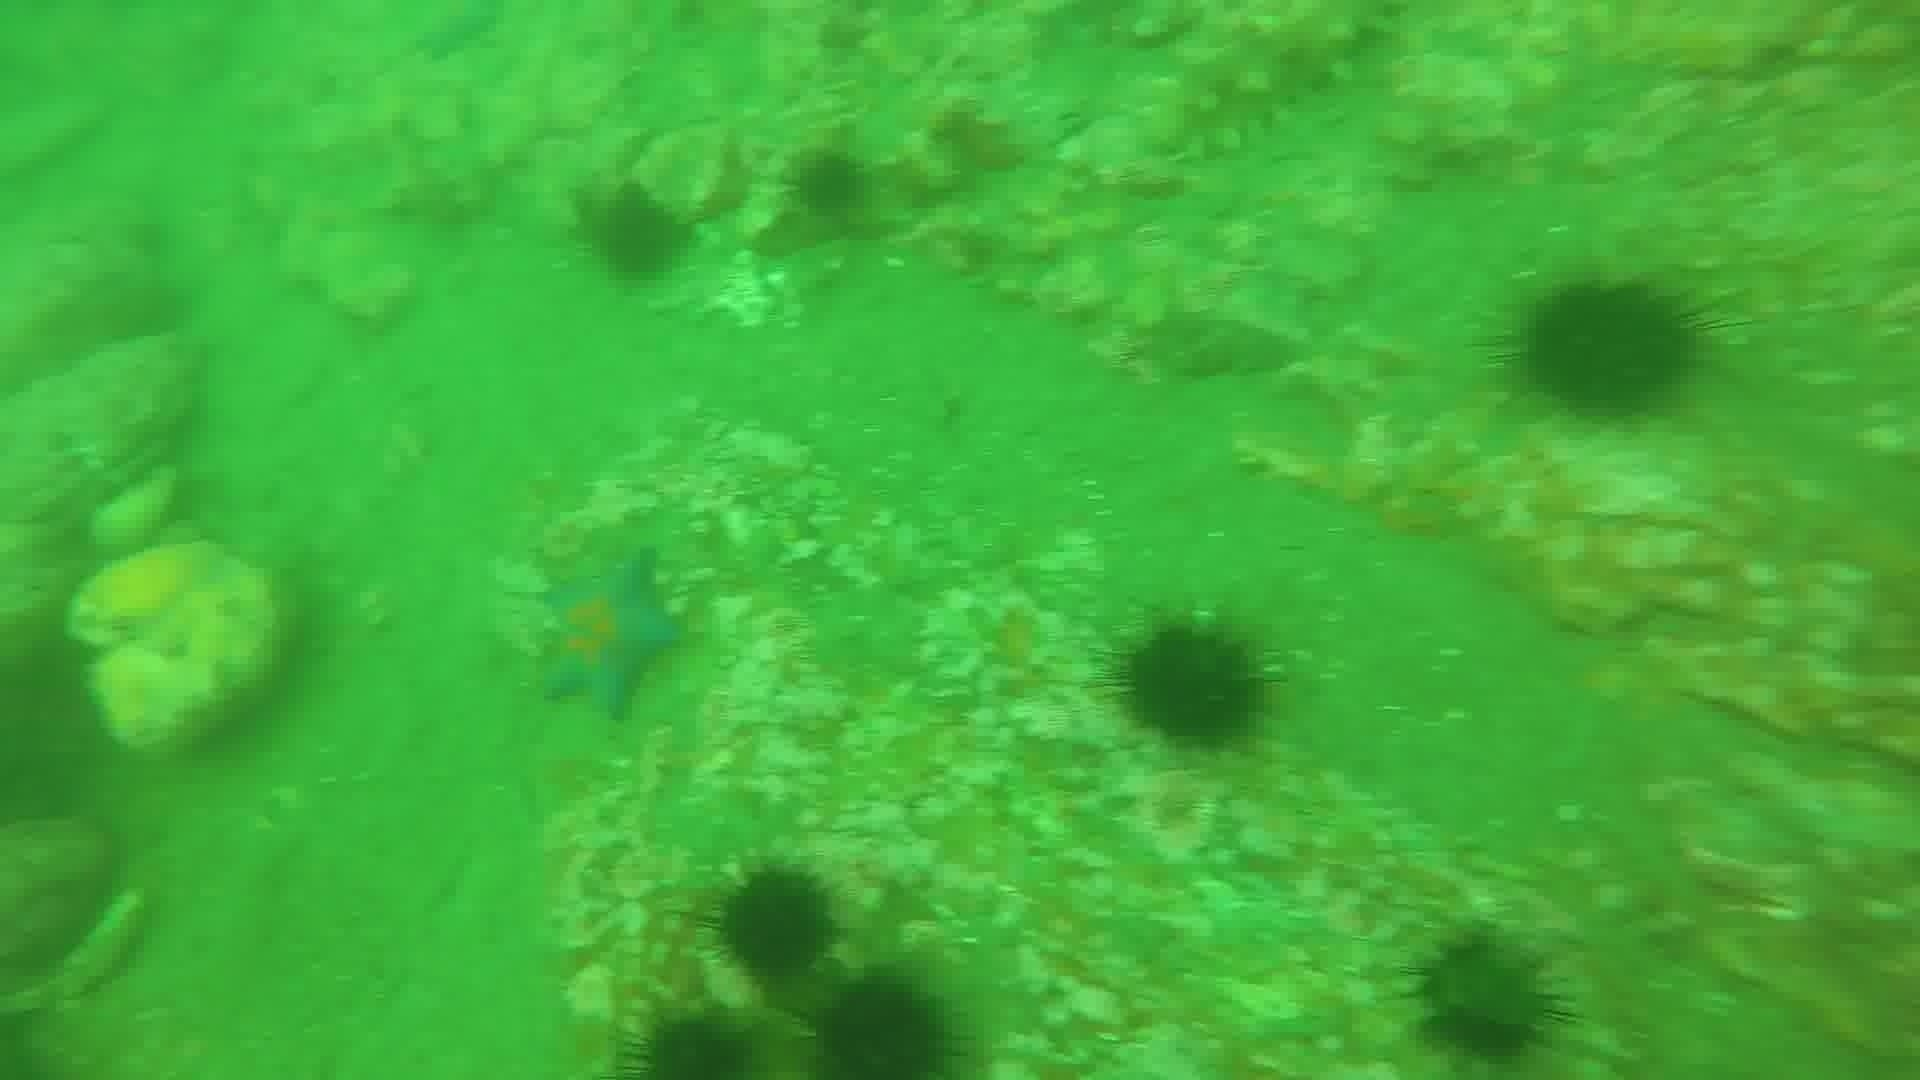echinus: (1505, 272, 1713, 425), (1404, 924, 1576, 1067), (1106, 615, 1275, 753), (705, 862, 840, 986), (808, 971, 957, 1077), (582, 183, 692, 287), (621, 1005, 764, 1076), (785, 144, 874, 224)
holothurian: (1149, 3, 1404, 165)
starfish: (529, 547, 688, 721), (402, 3, 506, 65)
